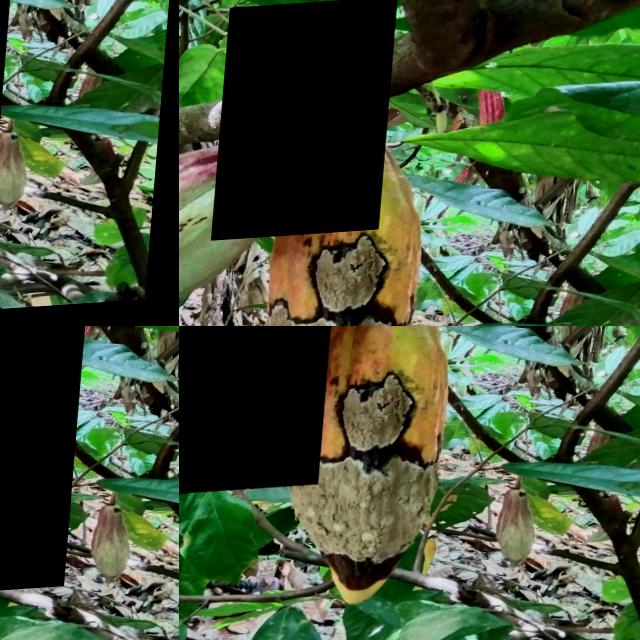Monilia: (288, 326, 476, 616)
Sana: (438, 40, 640, 315), (217, 2, 399, 243), (179, 326, 339, 503), (0, 326, 95, 605), (502, 497, 545, 572), (619, 22, 640, 57)
